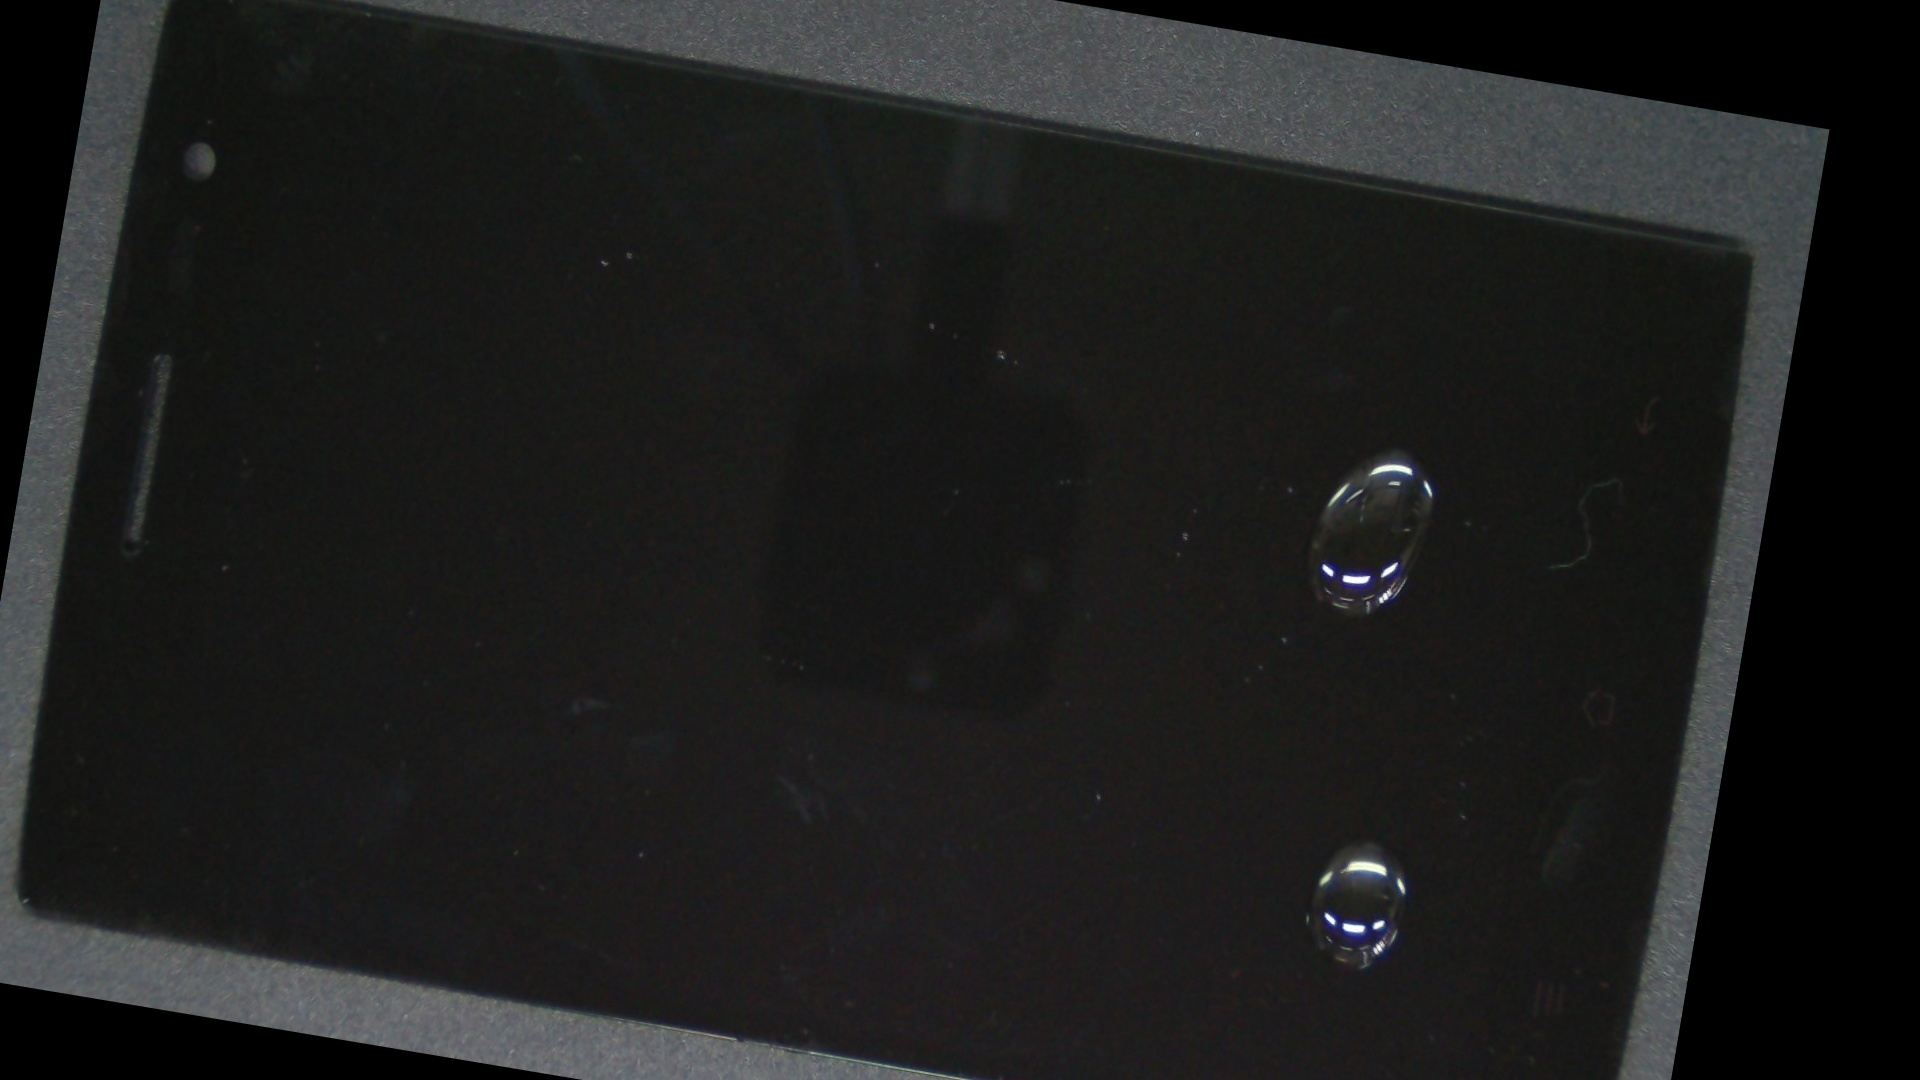oil: (624, 343, 1766, 1080), (696, 148, 1797, 704)
